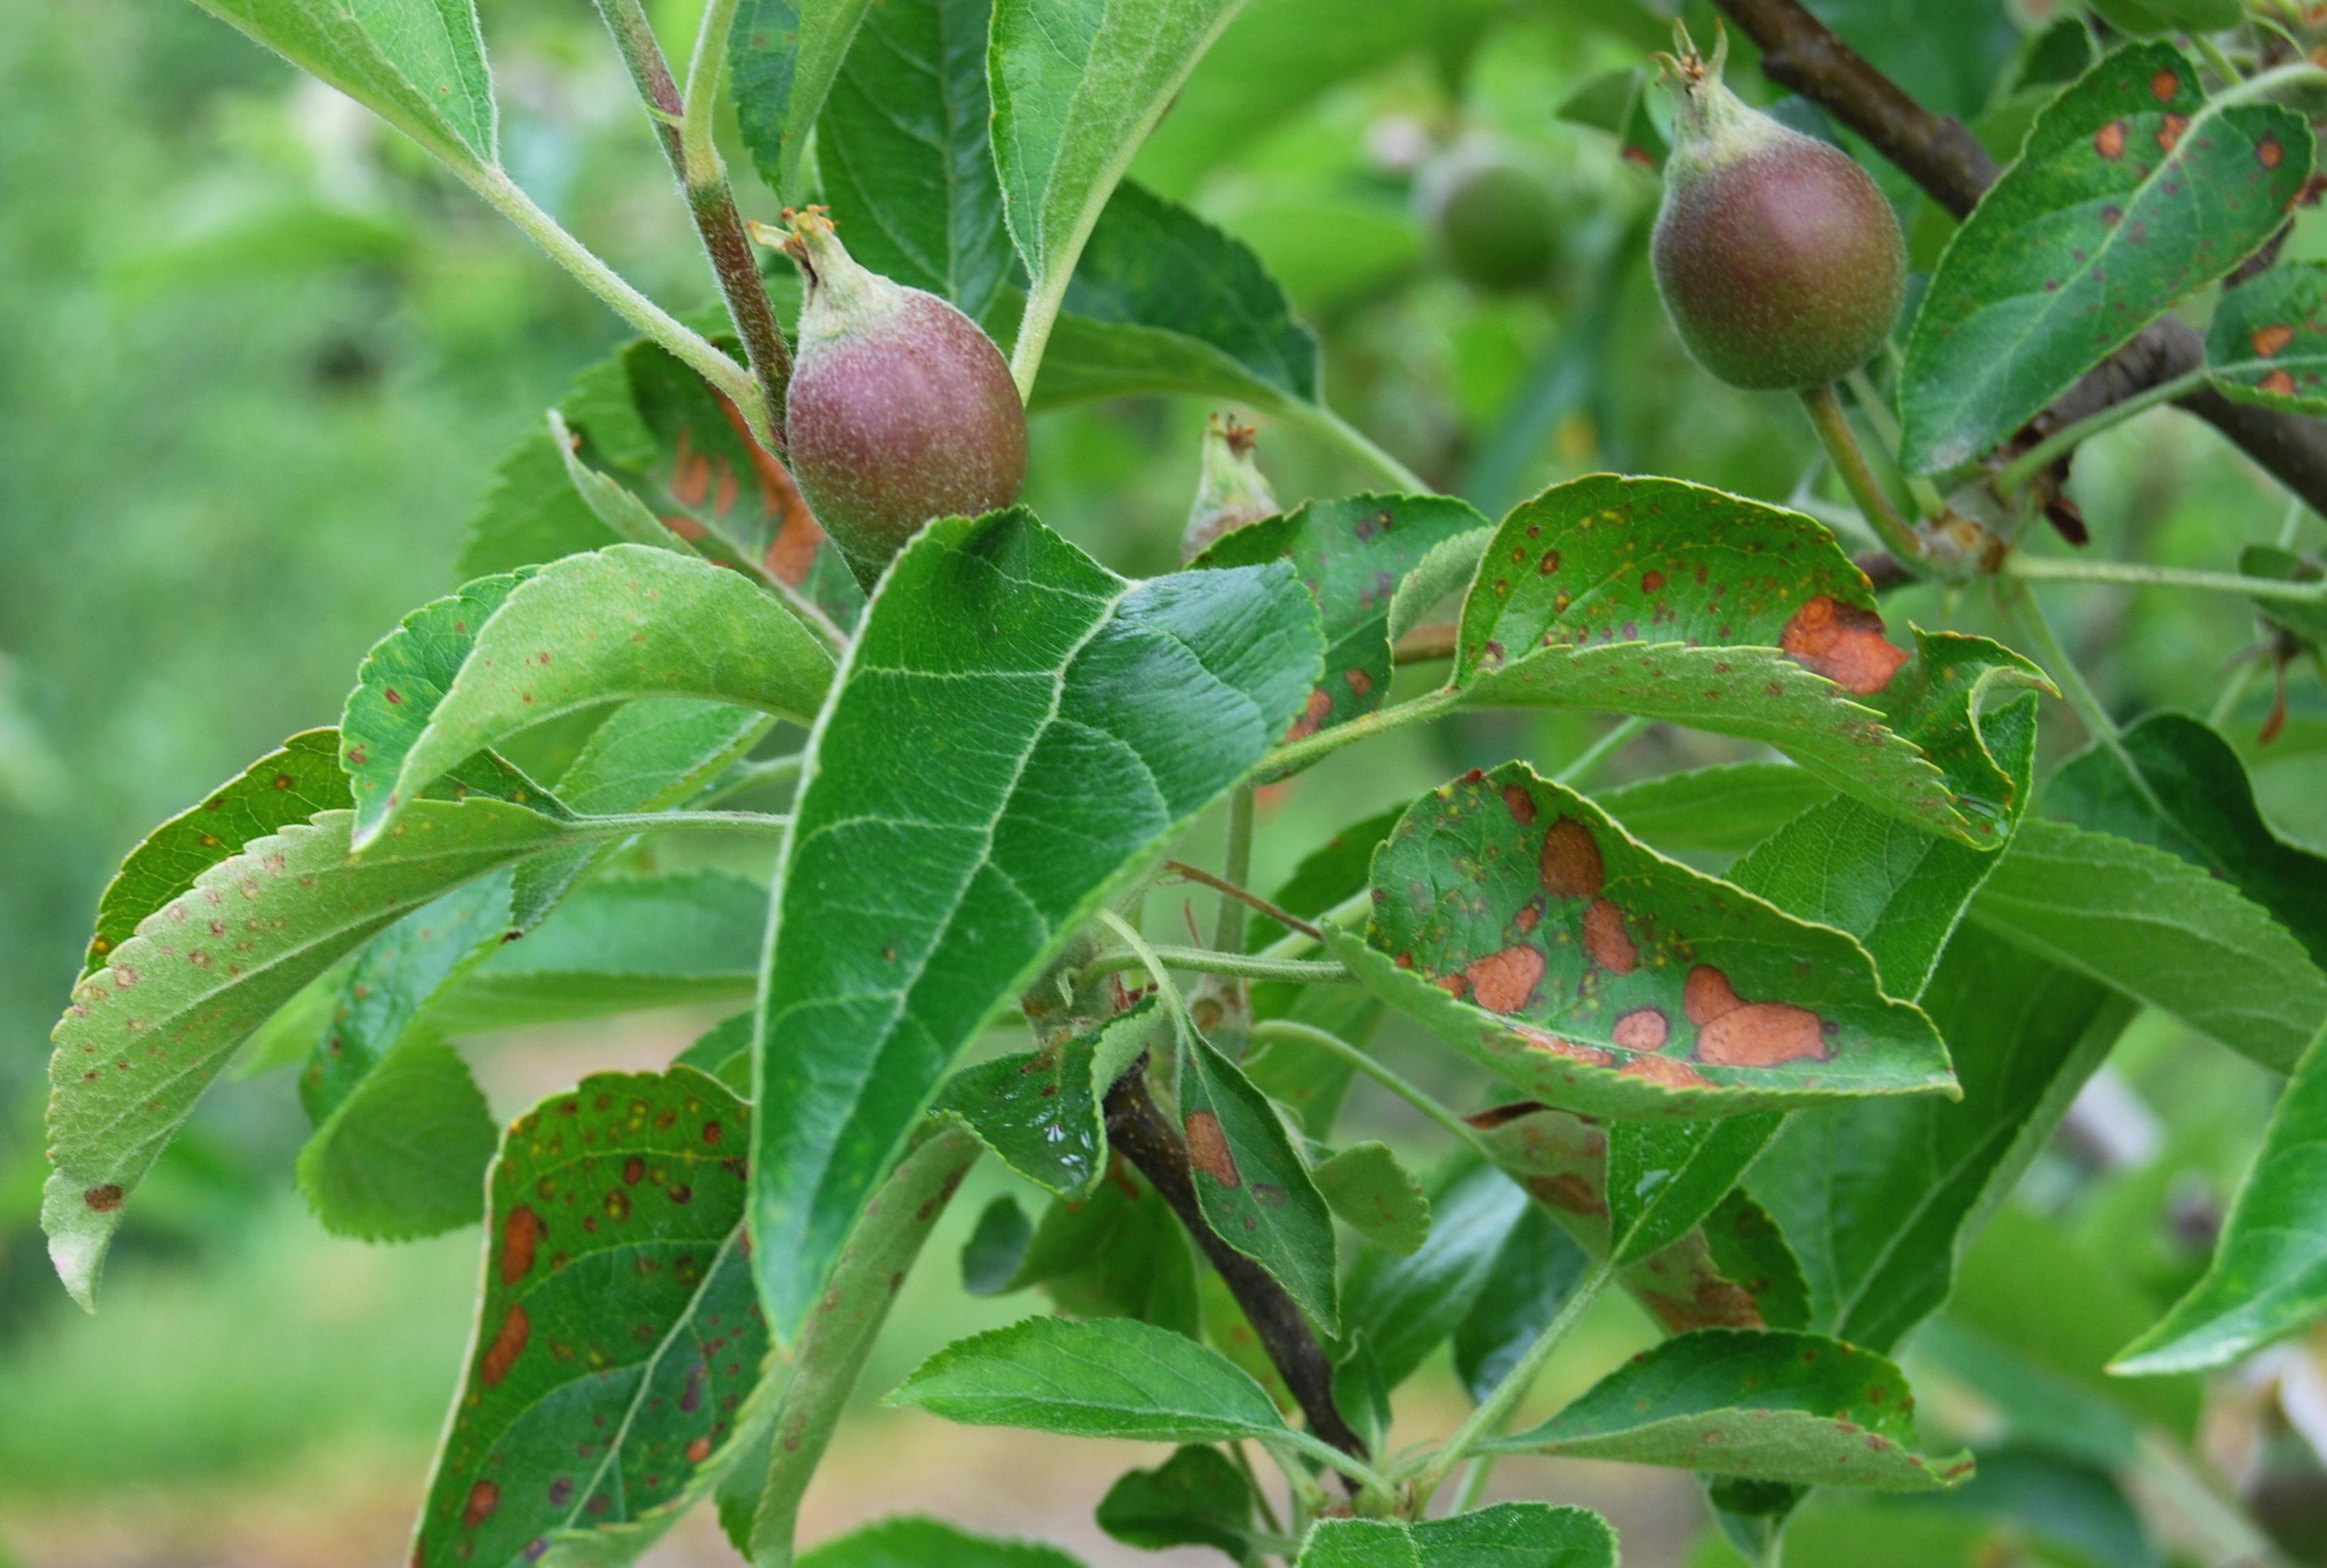Apple rust leaf: (1435, 455, 2079, 863), (1331, 763, 2007, 1139), (1886, 28, 2327, 567), (430, 1048, 763, 1568)
